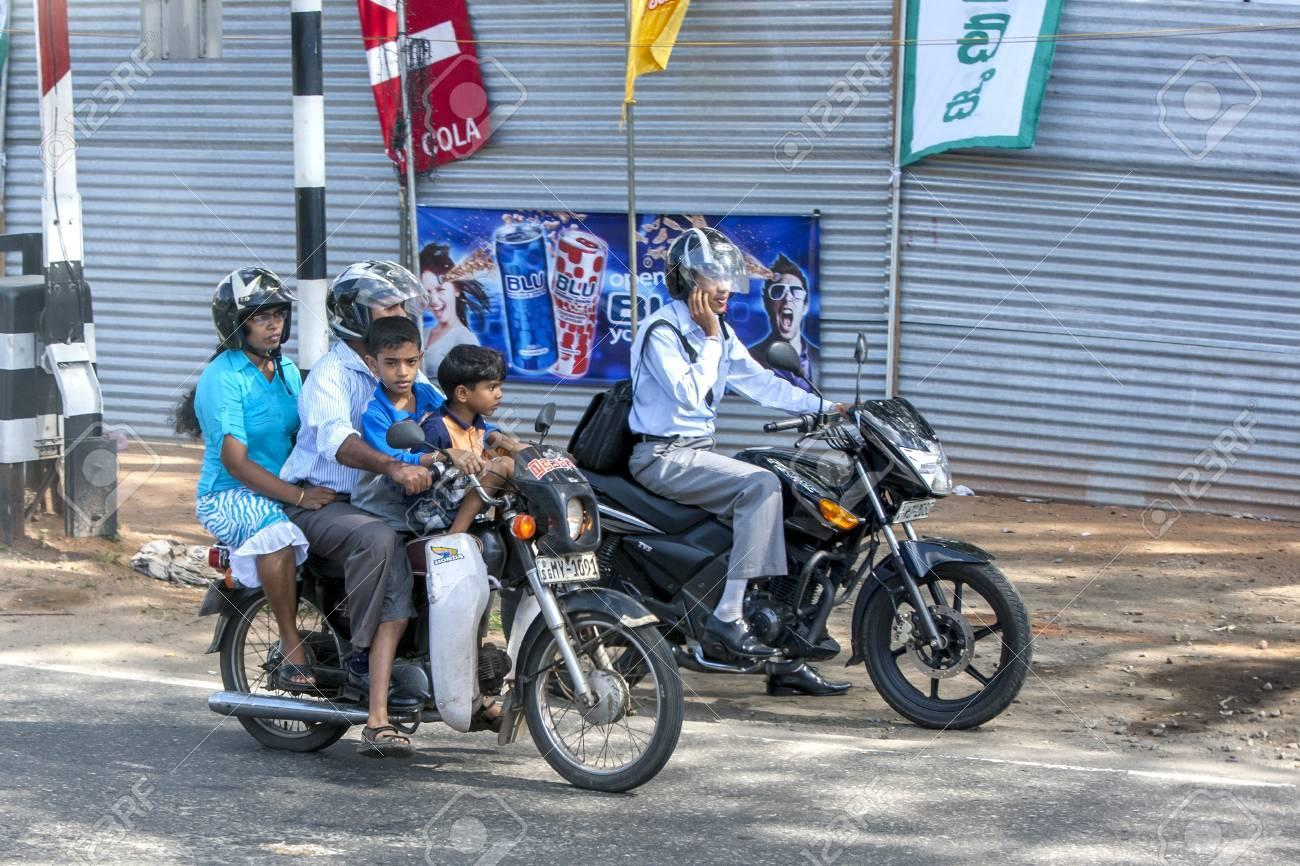motorbike: (198, 402, 685, 793), (577, 333, 1035, 731)
